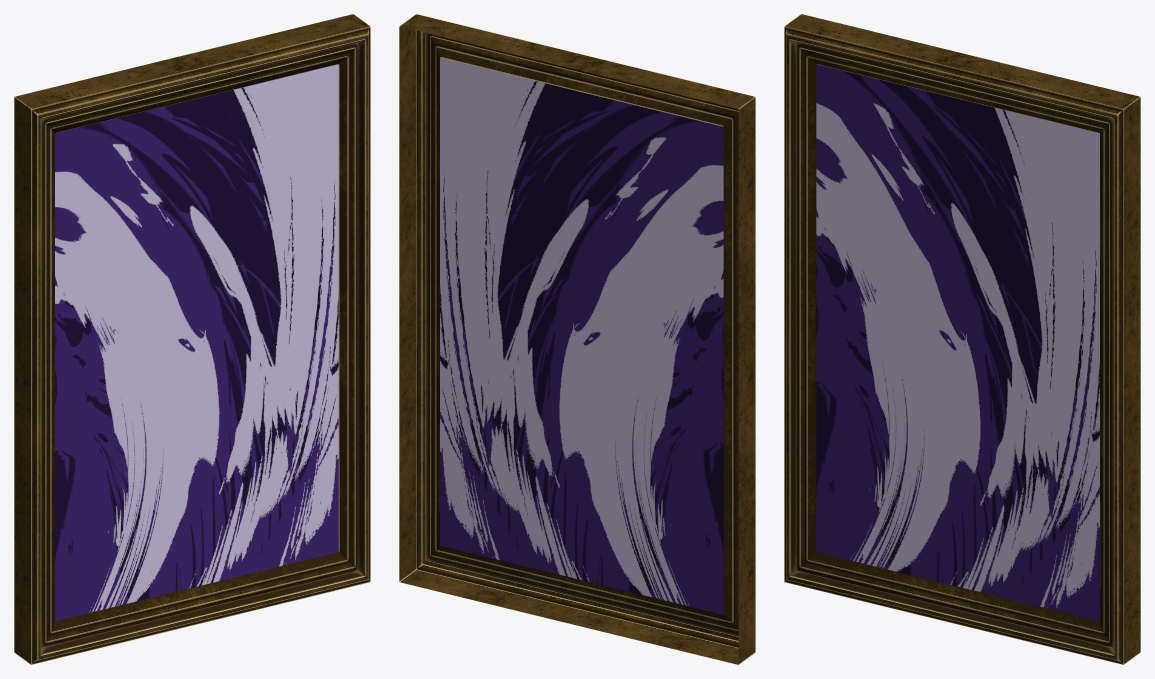
File: Painting 7.fbx
The picture shows the model from 3 angles, left to right: view 1: azimuth 30°, elevation 25°; view 2: azimuth 150°, elevation 25°; view 3: azimuth 330°, elevation 25°; orthographic projection.
Visible parts, largest first — view 1: painting_Var2_6; view 2: painting_Var2_6; view 3: painting_Var2_6.
Boxes of the visible parts, x1,y1,x2,y2 form: painting_Var2_6: (14,14,370,664); painting_Var2_6: (399,14,755,664); painting_Var2_6: (784,14,1140,664).
Bounding box in the file's own units: 59.07 × 92.39 × 5.86.
Materials: 2 (2 with a texture image).
